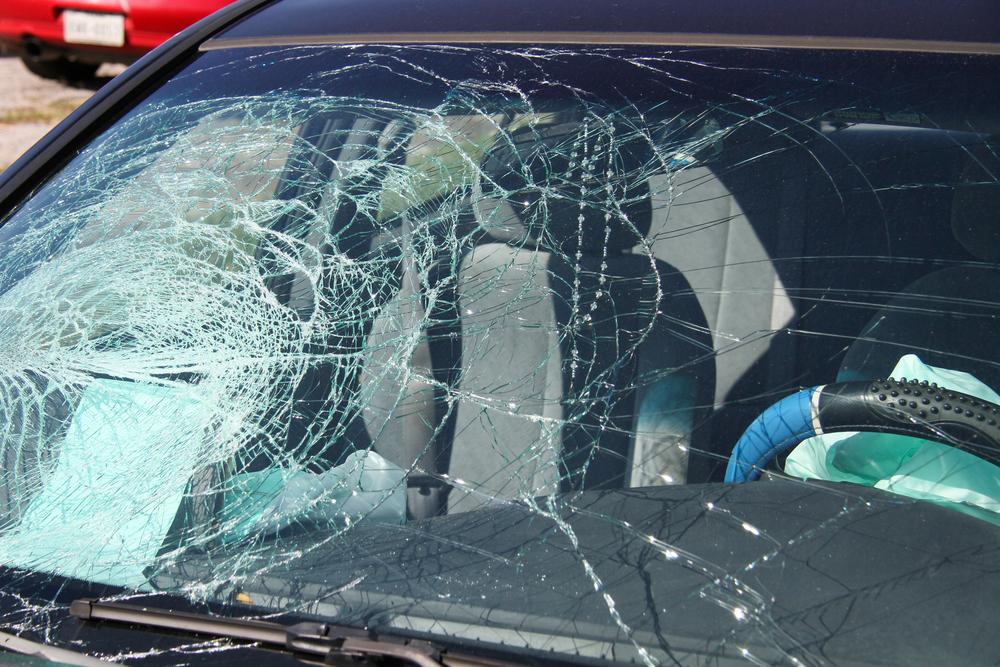glass shatter: (0, 42, 1000, 667)
